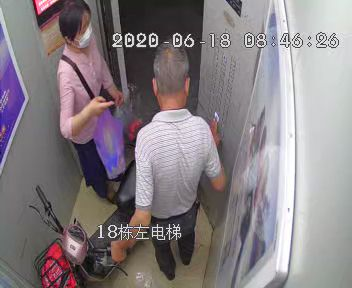Electric-bicycle: (27, 160, 141, 288)
